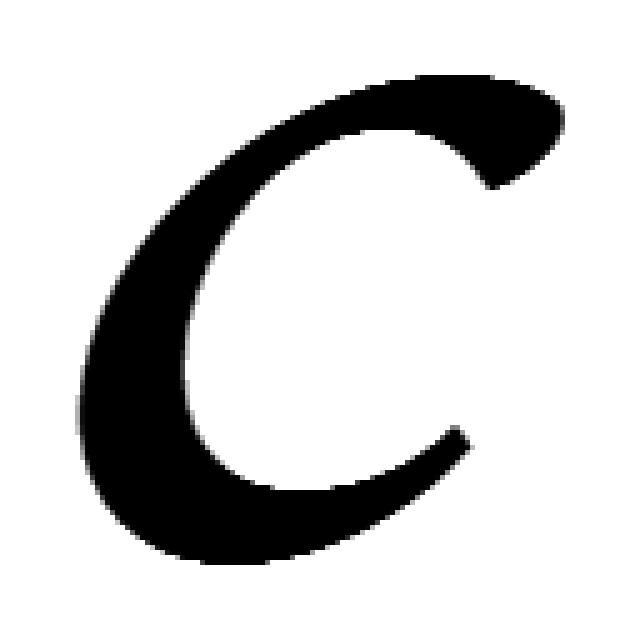C: (75, 75, 565, 570)
